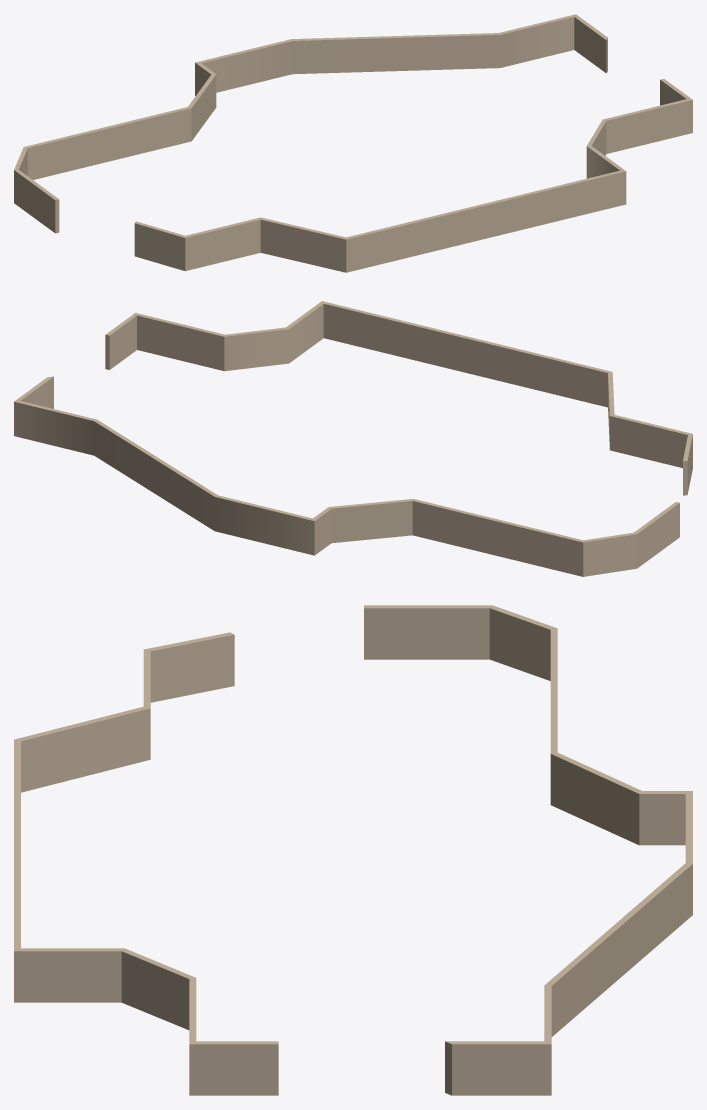
File: WallBattlefield.fbx
3 views of the same model, one above another, from view 1: azimuth 30°, elevation 25°; view 2: azimuth 150°, elevation 25°; view 3: azimuth 270°, elevation 25° (orthographic). The views are drawn at different scales.
Visible parts, largest first — view 1: pPlane1; view 2: pPlane1; view 3: pPlane1.
Part boxes in pixels (x1,y1,x2,y2): pPlane1: (14, 14, 692, 272); pPlane1: (14, 301, 692, 576); pPlane1: (14, 605, 692, 1095).
Size of the model in its own units: 43734 by 2386 by 28571.
